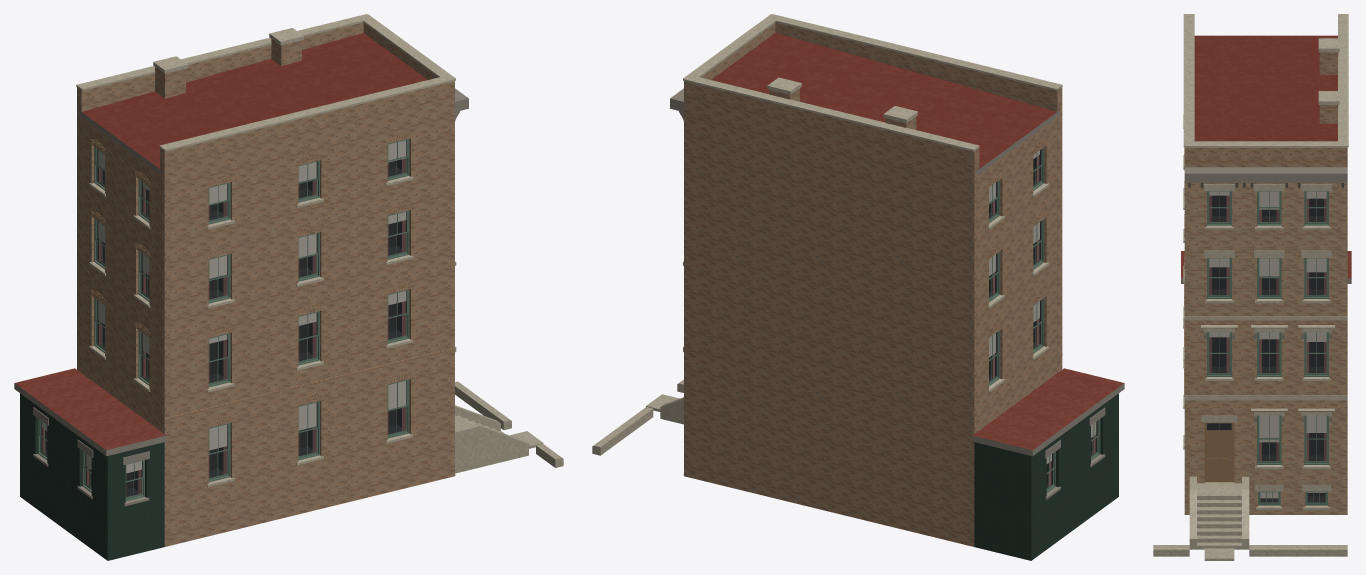
File: house_1613_prairie__as_mapped_1904.glb
3 renders of one model, left to right at view 1: azimuth 30°, elevation 25°; view 2: azimuth 150°, elevation 25°; view 3: azimuth 270°, elevation 25°, orthographic. The views are drawn at different scales.
Visible parts, largest first — view 1: house_1613_prairie__as_mapped_1904; view 2: house_1613_prairie__as_mapped_1904; view 3: house_1613_prairie__as_mapped_1904.
Part boxes in pixels (x1,y1,x2,y2): house_1613_prairie__as_mapped_1904: (14,14,563,560); house_1613_prairie__as_mapped_1904: (592,14,1124,560); house_1613_prairie__as_mapped_1904: (1153,14,1351,560).
Bounding box in the file's own units: 19.36 × 16.77 × 7.95.
20 materials, 11 textured.
